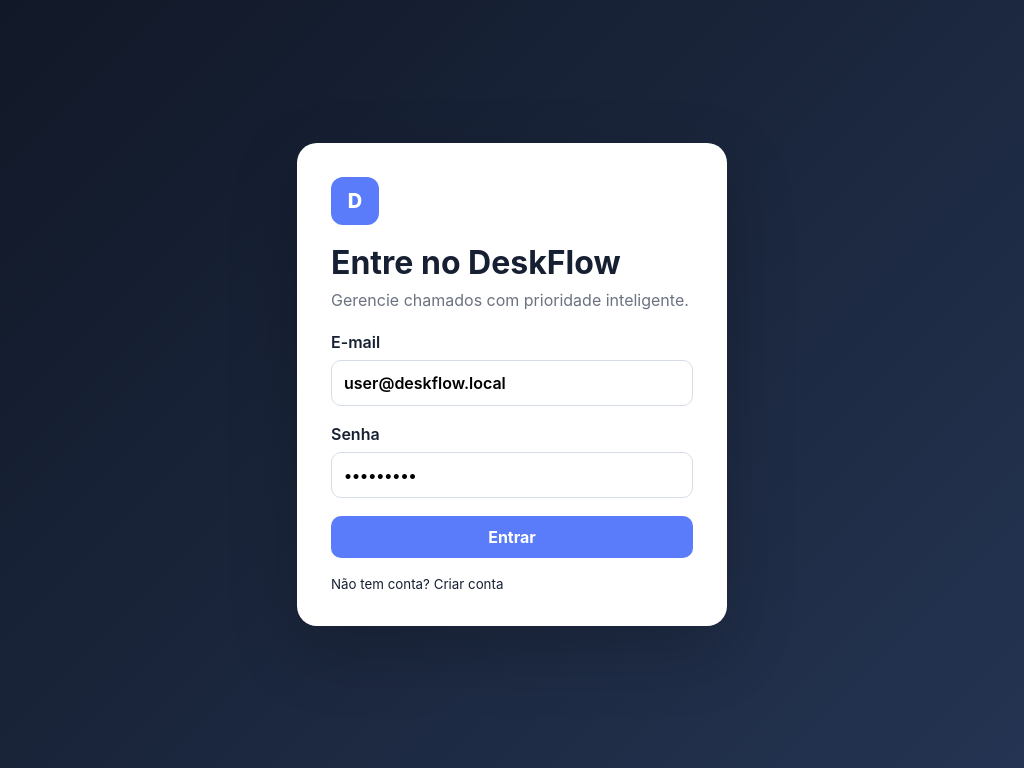
LoginPage › shows the error message returned by the API when login fails
Click the button "Entrar" at (512, 536), box x1=331 y1=516 x2=693 y2=558
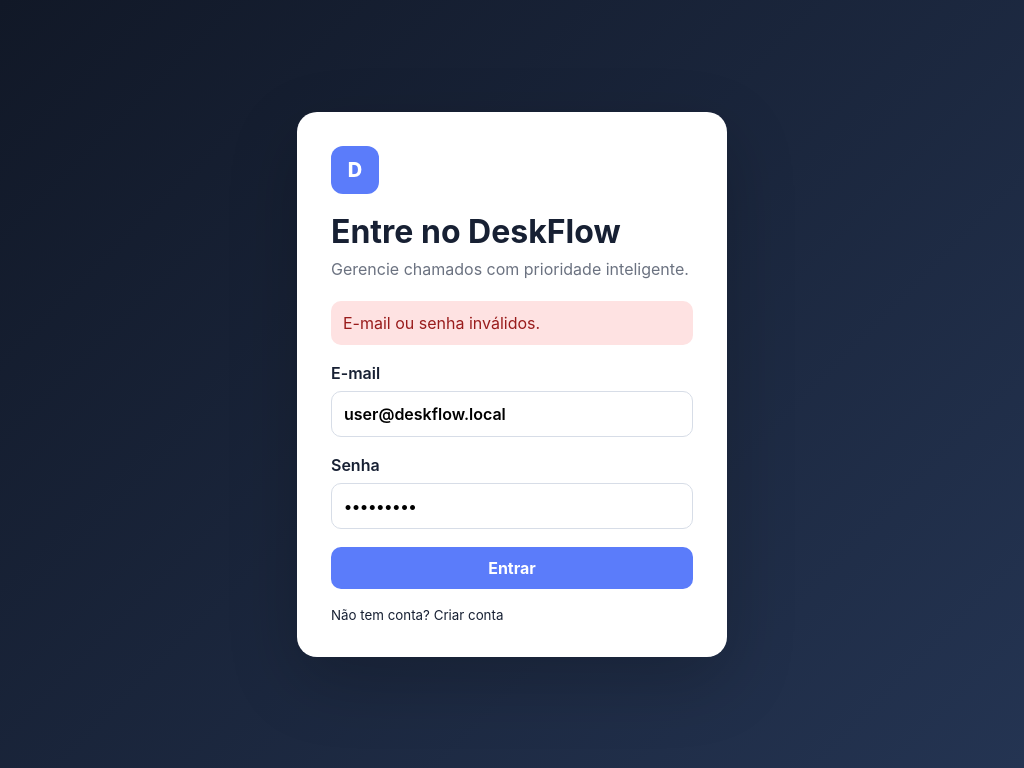
Check: the message reads "E-mail ou senha inválidos.", box x1=343 y1=312 x2=540 y2=332
